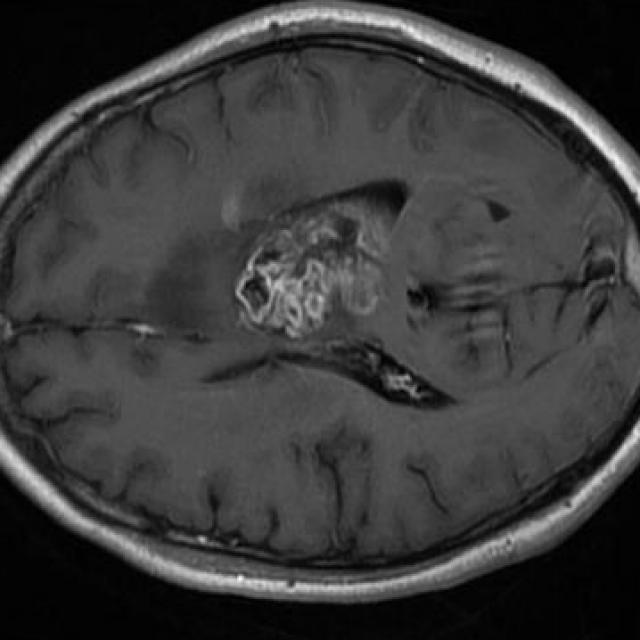glioma: (157, 176, 392, 339)
